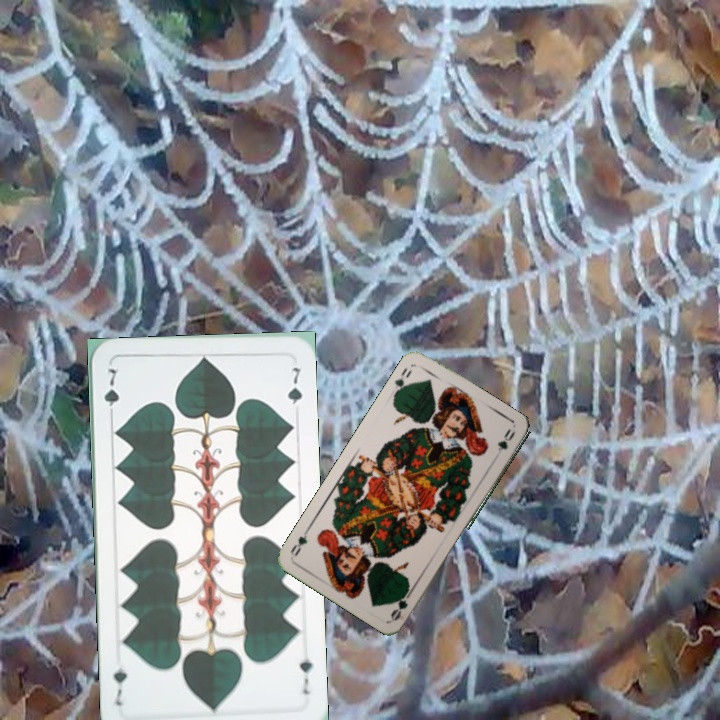G7: (100, 365, 122, 422), (295, 654, 315, 697)
GO: (386, 583, 416, 622), (390, 363, 414, 398)
